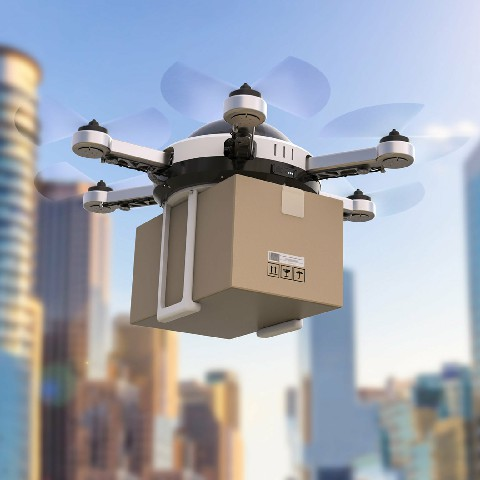maybay_khongnguoilai: (30, 81, 427, 309)
